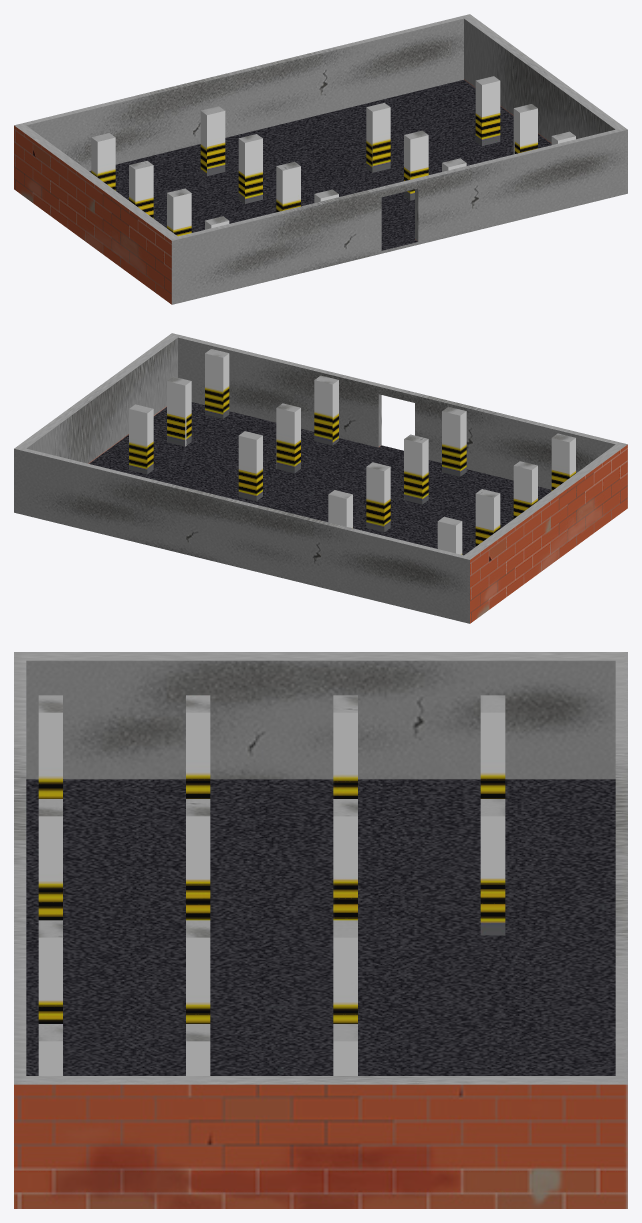
Rendered from Basement Floor.FBX.
3 renders of one model, top to bottom at view 1: azimuth 30°, elevation 25°; view 2: azimuth 150°, elevation 25°; view 3: azimuth 270°, elevation 25°, orthographic. The views are drawn at different scales.
Parts seen in each view (by area): view 1: Box001; view 2: Box001; view 3: Box001.
Part boxes in pixels (x1=…): Box001: x1=14, y1=14, x2=627, y2=304; Box001: x1=14, y1=333, x2=627, y2=623; Box001: x1=14, y1=652, x2=627, y2=1208.
Size of the model in its own units: 5000 by 670 by 3000.
1 material, 1 textured.
